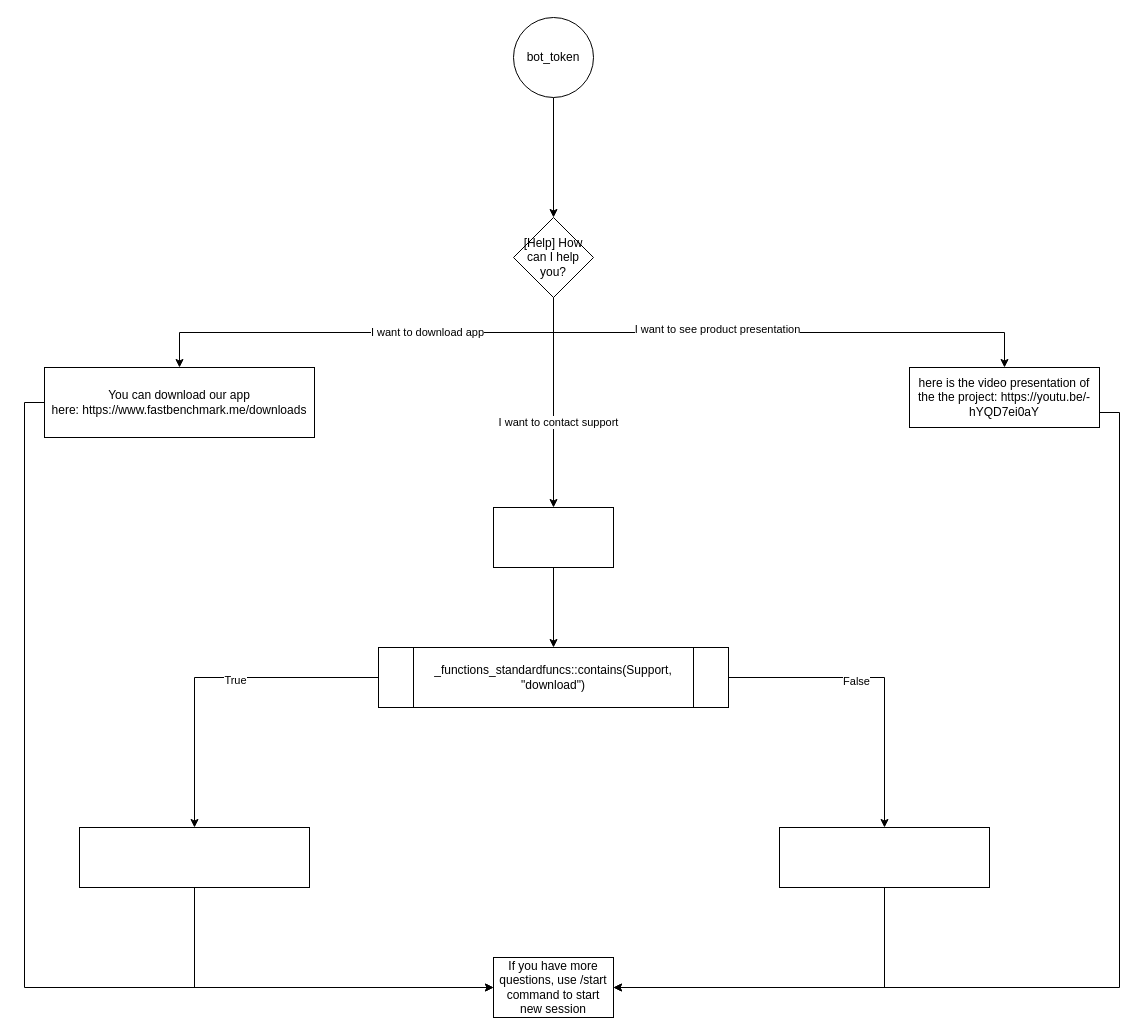
The diagram is 1145 pixels wide and 1035 high, and some of its shapes have lost their labels. The centre of each missing label's shape, as x and y in pixels:
[Support] What is the problem you need help with?: the point at 553,537
Contact us on download_issues@some_domain.com: the point at 194,857
Contact us on general_issues@some_domain.com: the point at 884,857
